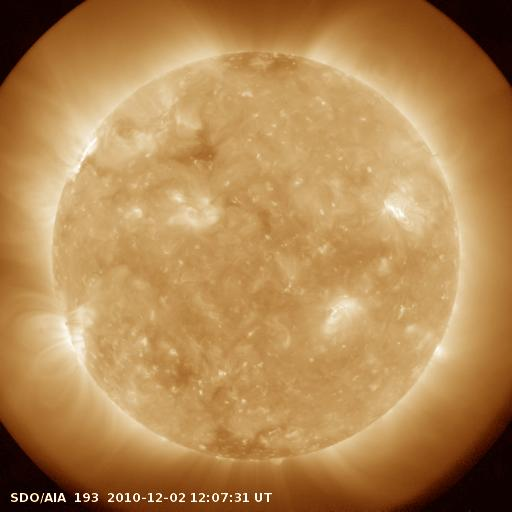coronal_hole: (170, 128, 223, 165)
